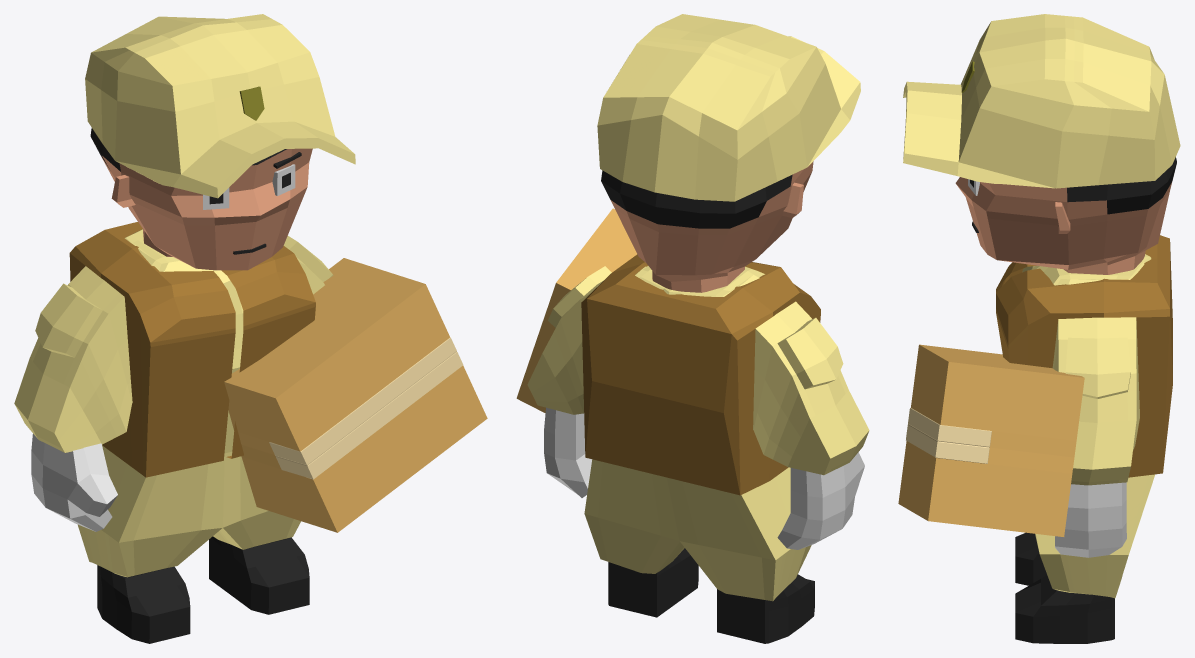
File: RIder anim 3.fbx
The picture shows the model from 3 angles, left to right: view 1: azimuth 30°, elevation 25°; view 2: azimuth 150°, elevation 25°; view 3: azimuth 270°, elevation 25°; orthographic projection. The views are drawn at different scales.
Visible parts, largest first — view 1: Cube.1008; view 2: Cube.1008; view 3: Cube.1008.
Boxes of the visible parts, x1,y1,x2,y2 form: Cube.1008: [14, 14, 487, 643]; Cube.1008: [516, 14, 869, 643]; Cube.1008: [898, 14, 1180, 643].
Size of the model in its own units: 54.58 by 80.62 by 36.64.
